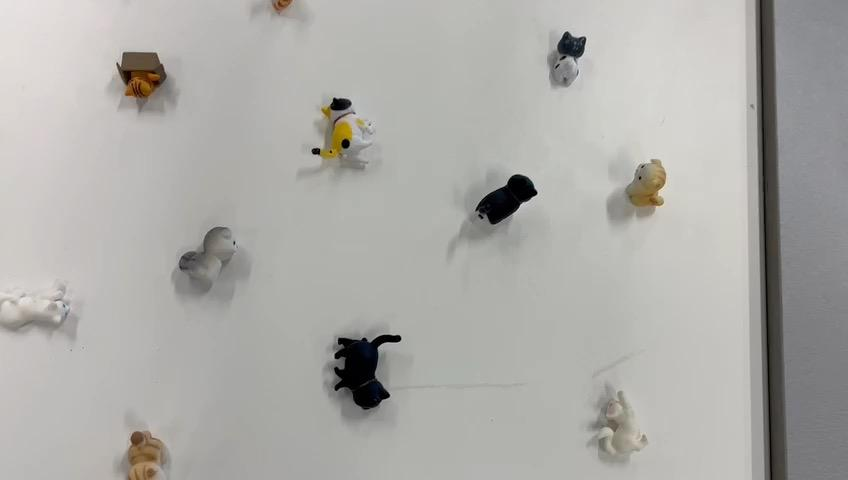pet: (303, 326, 419, 430), (548, 376, 669, 471), (98, 386, 207, 480), (463, 154, 543, 280), (298, 91, 386, 203), (523, 1, 611, 109), (0, 266, 89, 368), (163, 211, 246, 320), (606, 149, 693, 232), (103, 34, 170, 114)
